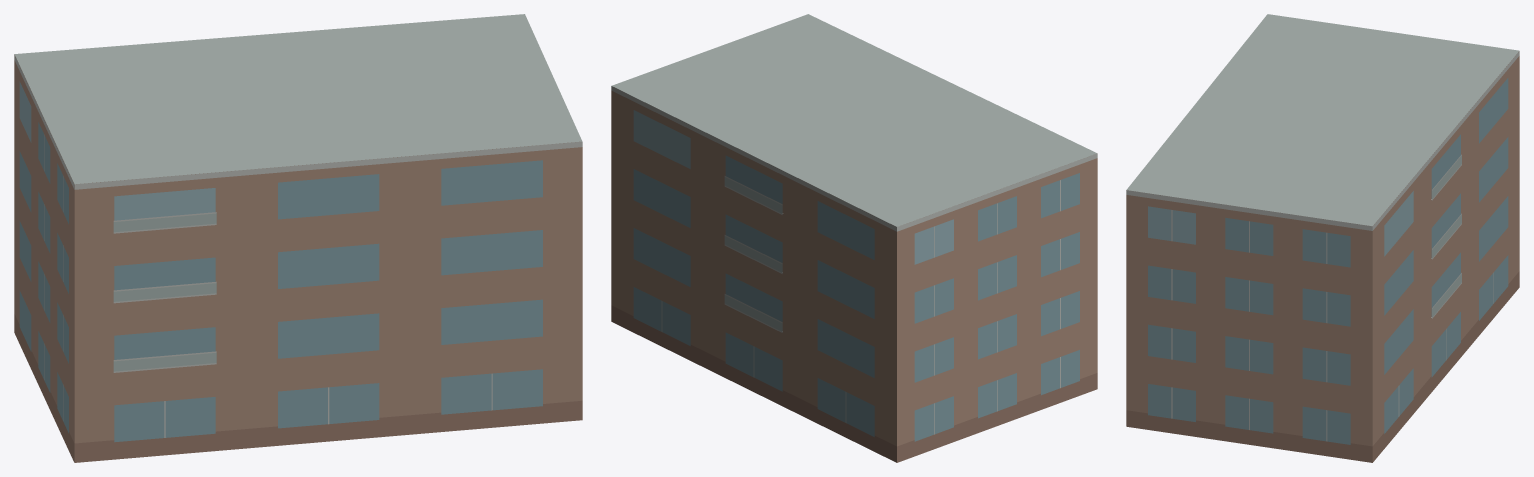
The model's file is survey-upis-32986601.glb.
The picture shows the model from 3 angles, left to right: view 1: azimuth 30°, elevation 25°; view 2: azimuth 150°, elevation 25°; view 3: azimuth 270°, elevation 25°; orthographic projection. The views are drawn at different scales.
Parts seen in each view (by area): view 1: survey-upis-32986601.tmp; view 2: survey-upis-32986601.tmp; view 3: survey-upis-32986601.tmp.
Boxes of the visible parts, x1=… form: survey-upis-32986601.tmp: x1=14, y1=14, x2=582, y2=462; survey-upis-32986601.tmp: x1=611, y1=14, x2=1097, y2=462; survey-upis-32986601.tmp: x1=1126, y1=14, x2=1519, y2=462.
Size of the model in its own units: 23.49 by 12.2 by 18.39.
